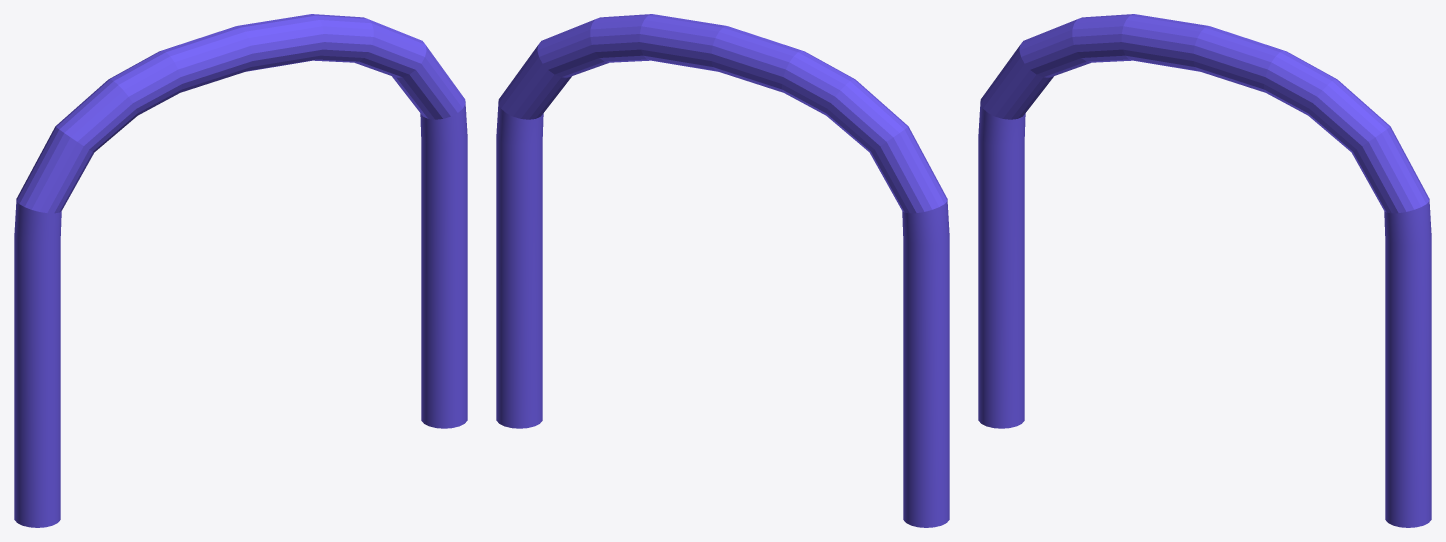
The model's file is Archway.FBX.
3 renders of one model, left to right at view 1: azimuth 30°, elevation 25°; view 2: azimuth 150°, elevation 25°; view 3: azimuth 330°, elevation 25°, orthographic.
Parts seen in each view (by area): view 1: Cylinder003; view 2: Cylinder003; view 3: Cylinder003.
Part boxes in pixels (x1,y1,x2,y2): Cylinder003: (14,14,467,527); Cylinder003: (496,14,949,527); Cylinder003: (978,14,1431,527).
Size of the model in its own units: 5.48 by 5.16 by 0.4914.
